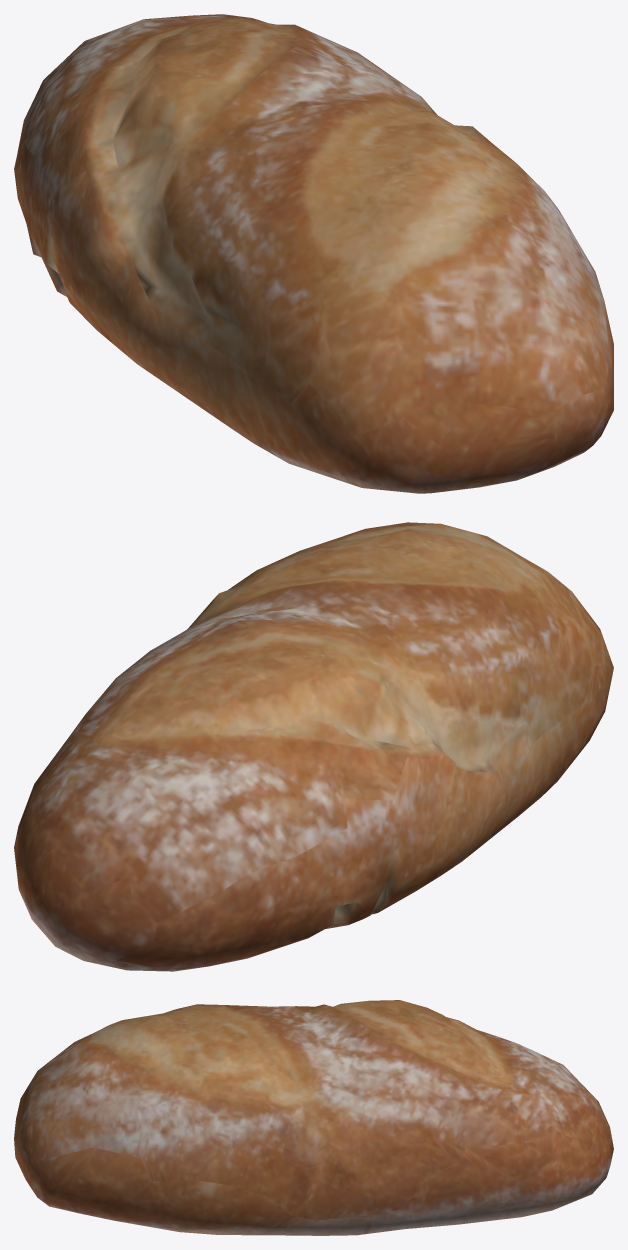
Rendered from bread.glb.
3 views of the same model, one above another, from view 1: azimuth 30°, elevation 25°; view 2: azimuth 150°, elevation 25°; view 3: azimuth 270°, elevation 25° (orthographic). The views are drawn at different scales.
Parts seen in each view (by area): view 1: bread.003_1; view 2: bread.003_1; view 3: bread.003_1.
Boxes of the visible parts, left/top/right/bottom form: bread.003_1: left=14, top=14, right=613, bottom=493; bread.003_1: left=14, top=522, right=613, bottom=971; bread.003_1: left=14, top=1000, right=613, bottom=1235.
Size of the model in its own units: 0.4644 by 0.3171 by 0.9824.
1 material, 1 textured.
